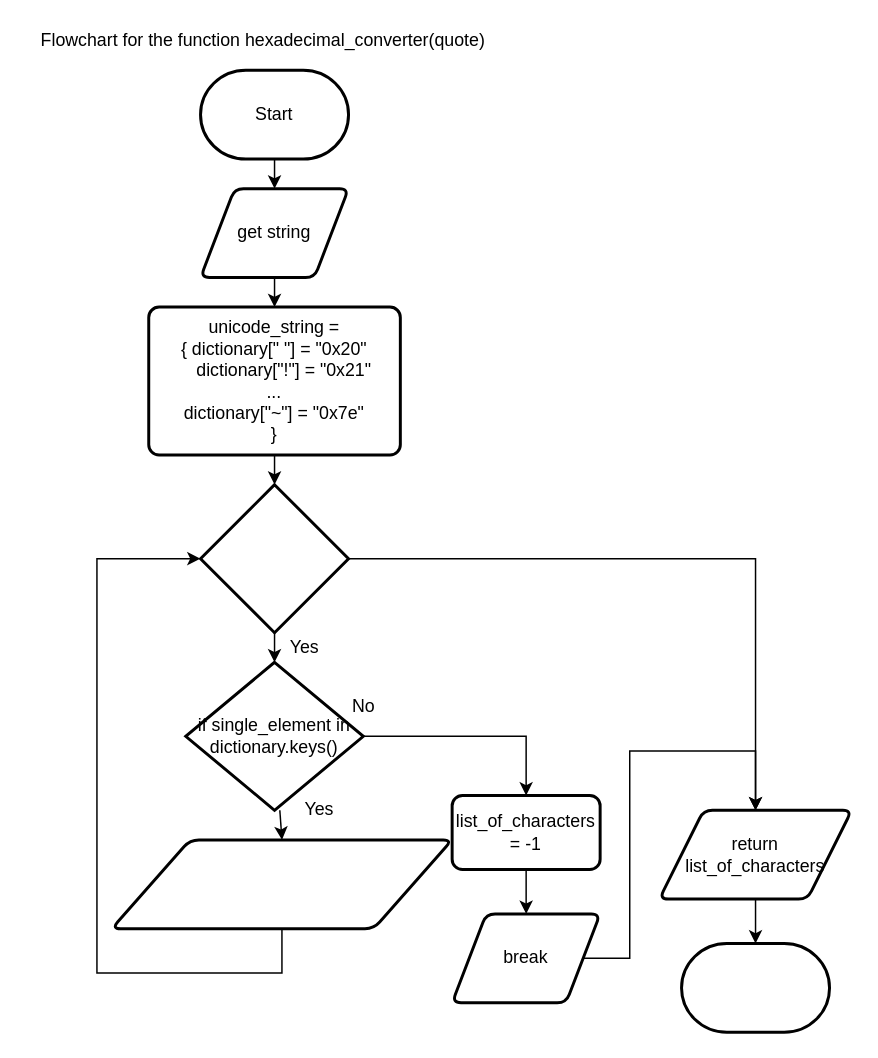
This 878x1058 diagram has some shape labels left out. Here are the shapes that lost their labels. From the top down, the centre of each, then its label:
pixel 273 557: for single_element in quote
pixel 281 883: list_of_characters.append (dictionary[single_element])
pixel 754 987: Stop
